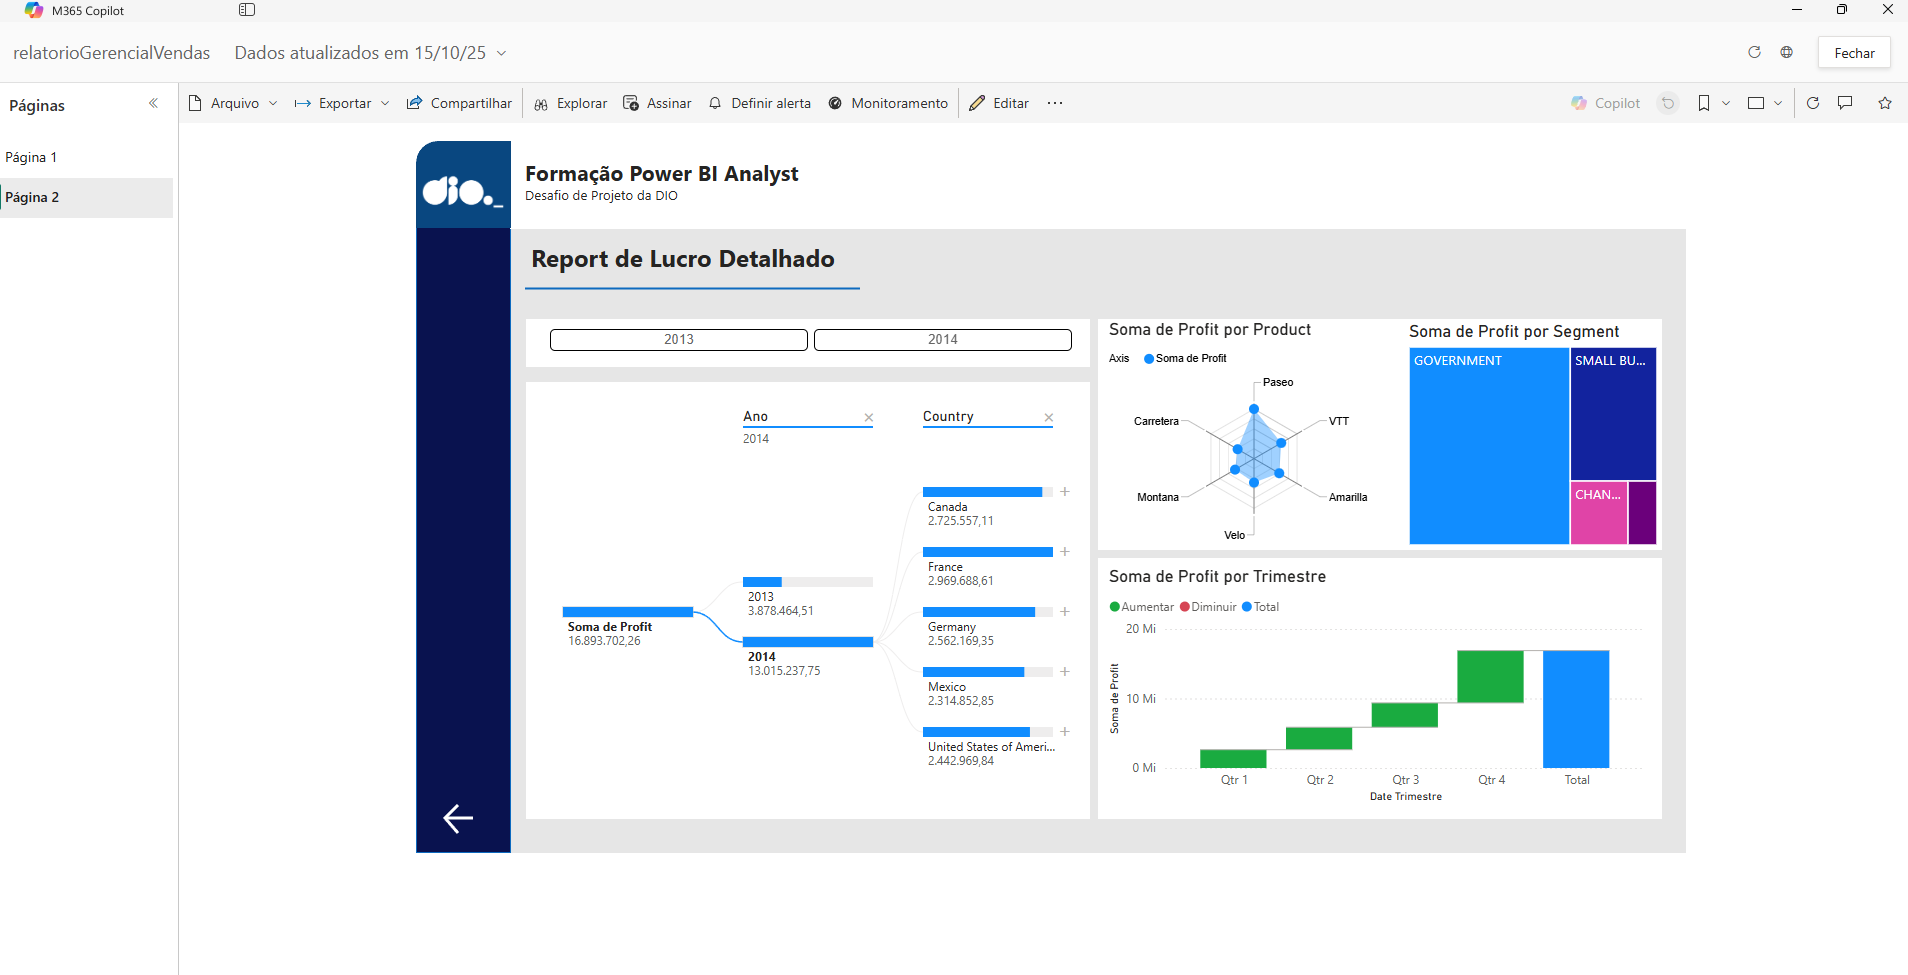

Layout of this report page (visuals, bound fields, positions):
{"tool":"powerbi","page":{"name":"Página 2","canvas":[1280,720],"ordinal":1},"visuals":[{"type":"shape","box":[119,125.2,335.4,60.6],"z":0,"group":"g1"},{"type":"shape","box":[104,95.8,1175.8,624.2],"z":0},{"type":"textbox","box":[120,103,346.5,47.5],"z":1000,"group":"g1"},{"type":"shape","box":[10,28,95,692],"z":1000},{"type":"shape","box":[104.1,7.8,1175.9,88],"z":2000},{"type":"shape","box":[10,7.7,94.6,86.9],"z":3000},{"type":"textbox","box":[114,20,454,63],"z":4000},{"type":"image","box":[9.7,11.7,94.3,92.4],"z":5000},{"type":"actionButton","box":[33.3,665.7,47.5,40.4],"z":6000},{"type":"group","id":"g1","title":"Title Report","box":[119,103,347.5,82.8],"z":7000},{"type":"shape","box":[120.2,185.9,563.6,48.5],"z":8000},{"type":"shape","box":[120.2,249.5,563.6,436.4],"z":9000},{"type":"shape","box":[691.9,425.3,563.6,260.6],"z":9001},{"type":"shape","box":[691.9,185.9,298,231.3],"z":9002},{"type":"shape","box":[998,185.9,257.6,231.3],"z":9003},{"type":"ChicletSlicer1448559807354","fields":{"Category":["financials.Date.Variation.Hierarquia de datas.Ano"]},"box":[136.4,187.9,537.4,43.4],"z":9004},{"type":"treemap","fields":{"Values":["Sum(financials.Profit)"],"Group":["financials.Segment"]},"box":[998,187.9,257.6,229.3],"z":9005},{"type":"decompositionTreeVisual","fields":{"Analyze":["Sum(financials.Profit)"],"ExplainBy":["financials.Date.Variation.Hierarquia de datas.Ano","financials.Country","financials.Date.Variation.Hierarquia de datas.Trimestre","financials.Date.Variation.Hierarquia de datas.Mês","financials.Date.Variation.Hierarquia de datas.Dia"]},"box":[127.3,257.6,546.5,420.2],"z":9006},{"type":"RadarChart1446119667547","fields":{"Category":["financials.Product"],"Y":["Sum(financials.Profit)"]},"box":[698,185.9,300,231.3],"z":9007},{"type":"waterfallChart","fields":{"Y":["Sum(financials.Profit)"],"Category":["financials.Date.Variation.Hierarquia de datas.Trimestre"]},"box":[698,433.3,547.5,240.4],"z":9008}]}

Visuals, with their boxes on the page's 1280x720 design canvas (x1, y1, x2, y2). These are canvas units, not pixel positions in the 1908x975 screenshot, which may show the page scaled, cropped or inside an application window:
shape: <bbox>119, 125, 454, 186</bbox>
shape: <bbox>104, 96, 1280, 720</bbox>
textbox: <bbox>120, 103, 466, 150</bbox>
shape: <bbox>10, 28, 105, 720</bbox>
shape: <bbox>104, 8, 1280, 96</bbox>
shape: <bbox>10, 8, 105, 95</bbox>
textbox: <bbox>114, 20, 568, 83</bbox>
image: <bbox>10, 12, 104, 104</bbox>
actionButton: <bbox>33, 666, 81, 706</bbox>
"Title Report" group: <bbox>119, 103, 466, 186</bbox>
shape: <bbox>120, 186, 684, 234</bbox>
shape: <bbox>120, 250, 684, 686</bbox>
shape: <bbox>692, 425, 1256, 686</bbox>
shape: <bbox>692, 186, 990, 417</bbox>
shape: <bbox>998, 186, 1256, 417</bbox>
ChicletSlicer1448559807354 - financials.Date.Variation.Hierarquia de datas.Ano: <bbox>136, 188, 674, 231</bbox>
treemap - Sum(financials.Profit) x financials.Segment: <bbox>998, 188, 1256, 417</bbox>
decompositionTreeVisual - Sum(financials.Profit) x financials.Date.Variation.Hierarquia de datas.Ano: <bbox>127, 258, 674, 678</bbox>
RadarChart1446119667547 - financials.Product x Sum(financials.Profit): <bbox>698, 186, 998, 417</bbox>
waterfallChart - Sum(financials.Profit) x financials.Date.Variation.Hierarquia de datas.Trimestre: <bbox>698, 433, 1246, 674</bbox>
